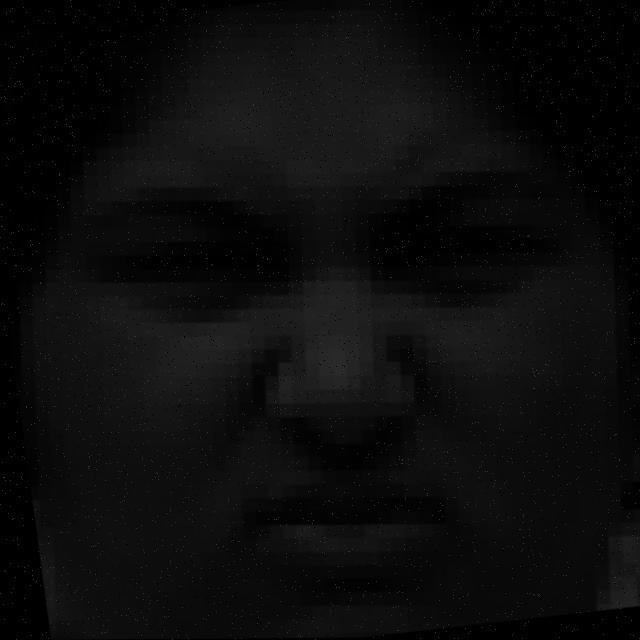Disgust: (3, 150, 640, 633)
